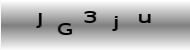3: (82, 10, 97, 24)
G: (56, 22, 73, 36)
J: (34, 12, 42, 29)
j: (110, 14, 119, 32)
u: (137, 12, 152, 25)
